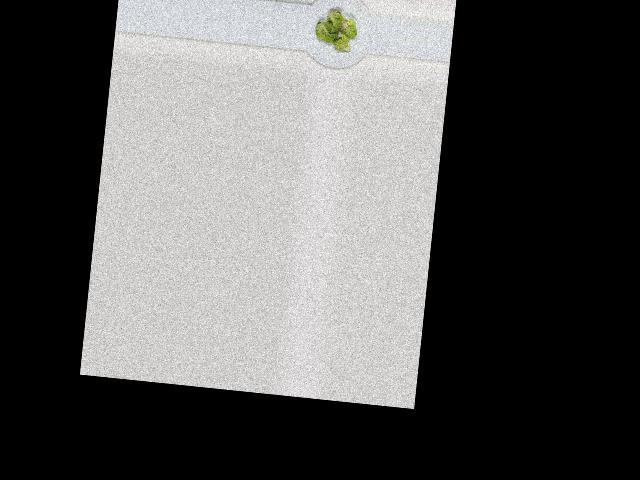lettuce: (309, 6, 358, 53)
